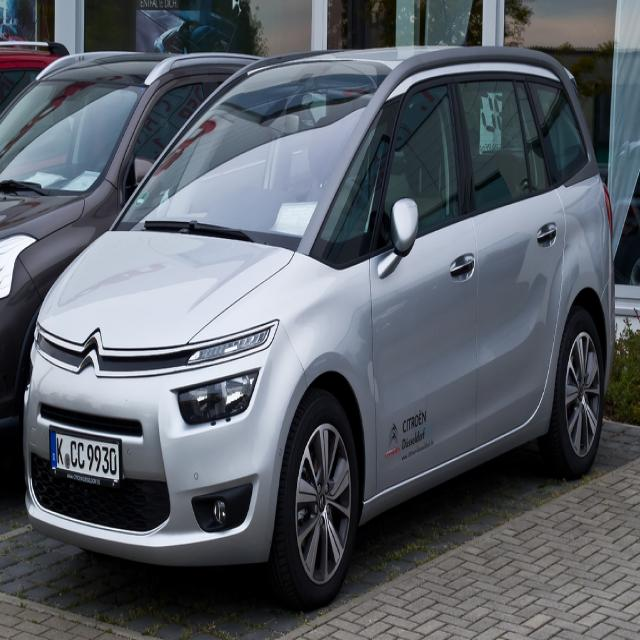car: (9, 41, 622, 611)
